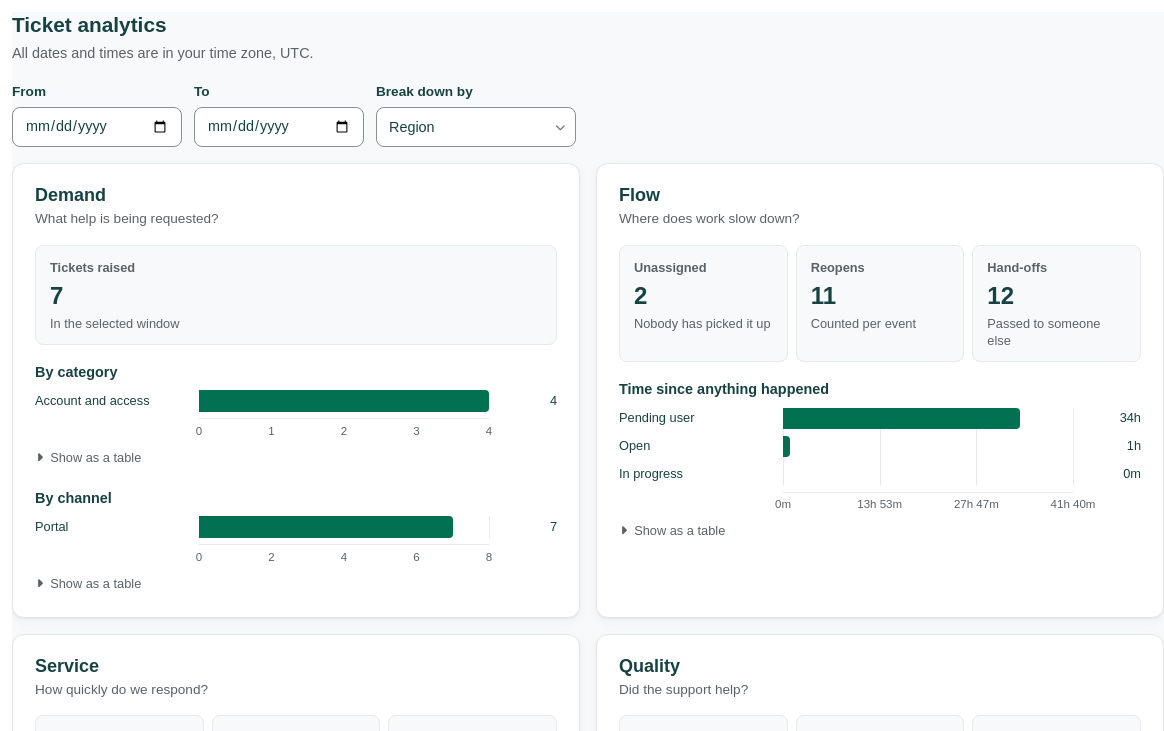
Test: TicketAnalyticsPage › draws how long each open status has sat, as durations, with a nothing-open sentence
The image size is (1164, 731).
Type "2026-09-03" into the date field with id "ticket-analytics-to". click: point(279, 127)
box: [194,107,364,147]
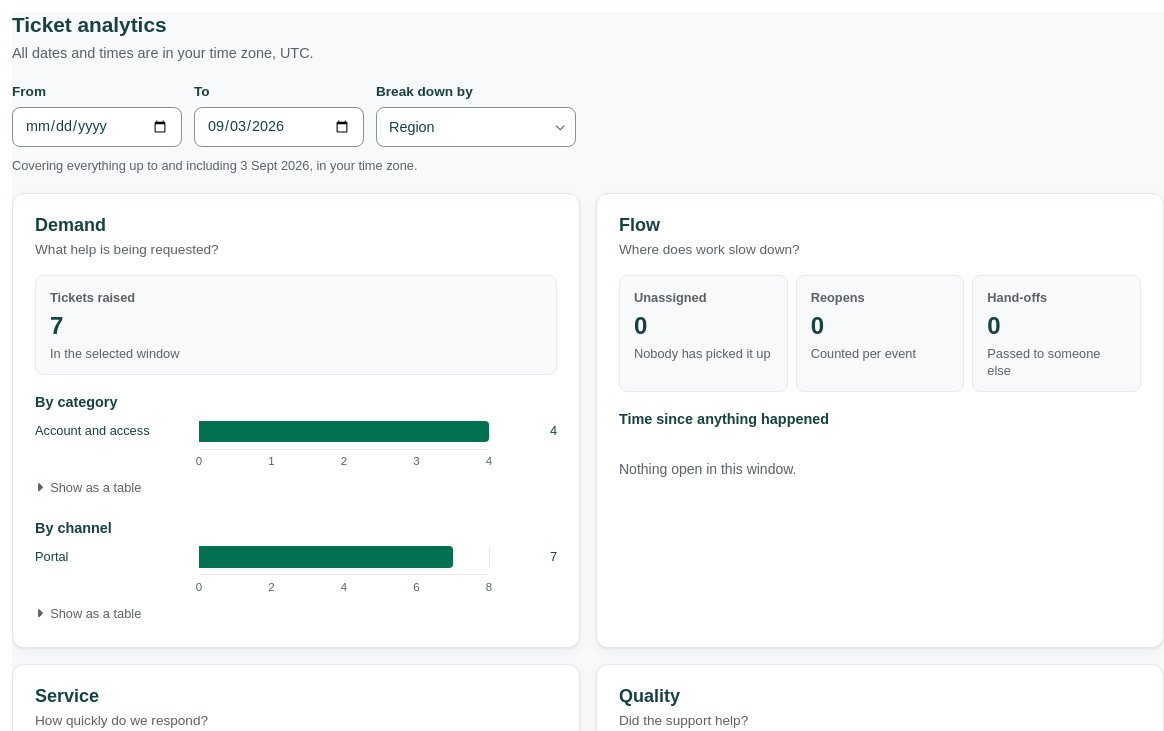
Result: the element that starts with "Flow" shows "Nothing open in this window." at [619,461,796,477]
